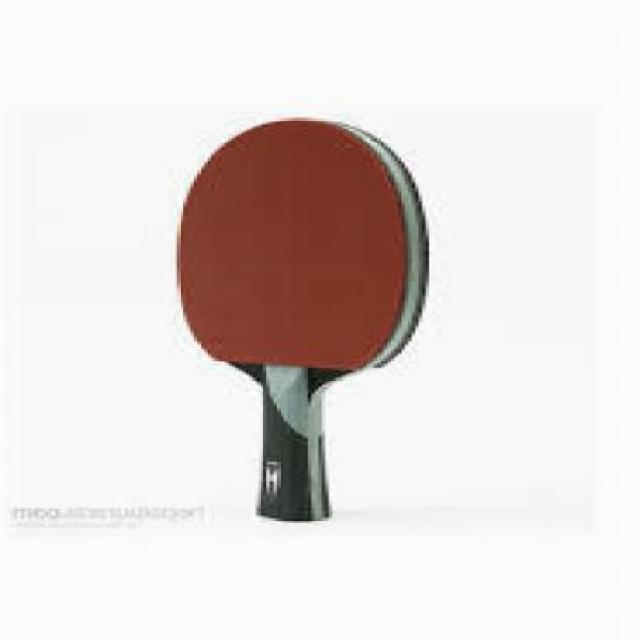table_tennis_racket: (168, 114, 427, 381)
